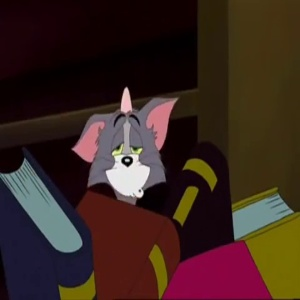Tom: (82, 109, 173, 195)
